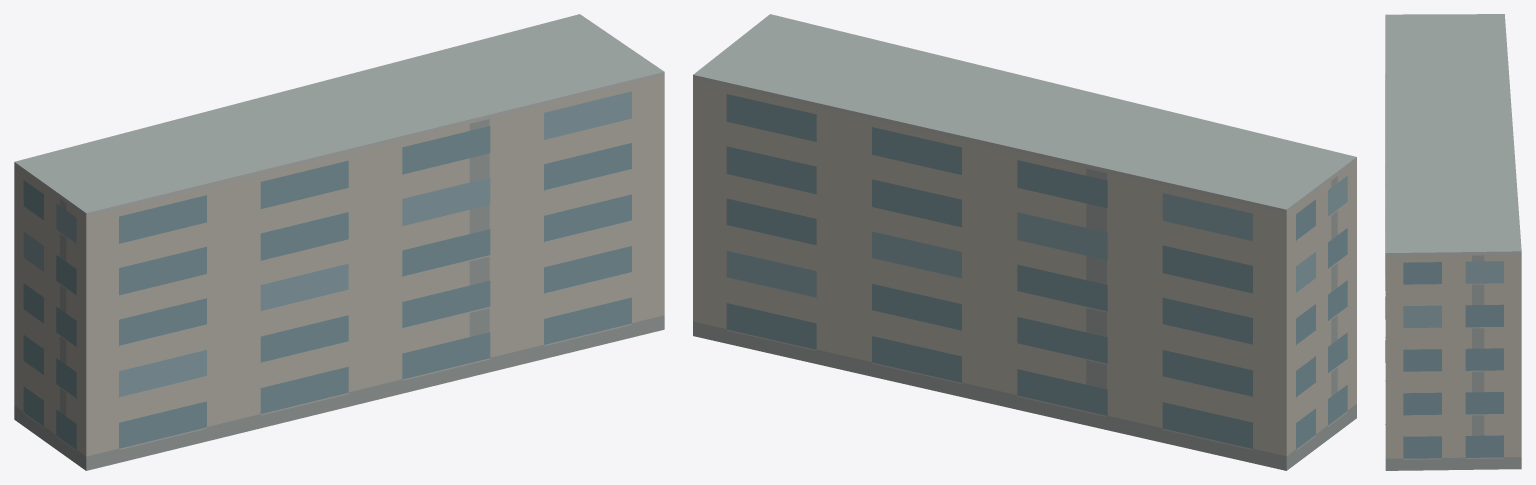
The model's file is survey-upis-32766815.glb.
3 renders of one model, left to right at view 1: azimuth 30°, elevation 25°; view 2: azimuth 150°, elevation 25°; view 3: azimuth 270°, elevation 25°, orthographic. The views are drawn at different scales.
Visible parts, largest first — view 1: survey-upis-32766815.tmp; view 2: survey-upis-32766815.tmp; view 3: survey-upis-32766815.tmp.
Boxes of the visible parts, box(x1,y1,x2,y2) form: survey-upis-32766815.tmp: box(14, 14, 664, 470); survey-upis-32766815.tmp: box(693, 14, 1356, 470); survey-upis-32766815.tmp: box(1385, 14, 1521, 470).
Size of the model in its own units: 34.63 by 14.7 by 8.36.
